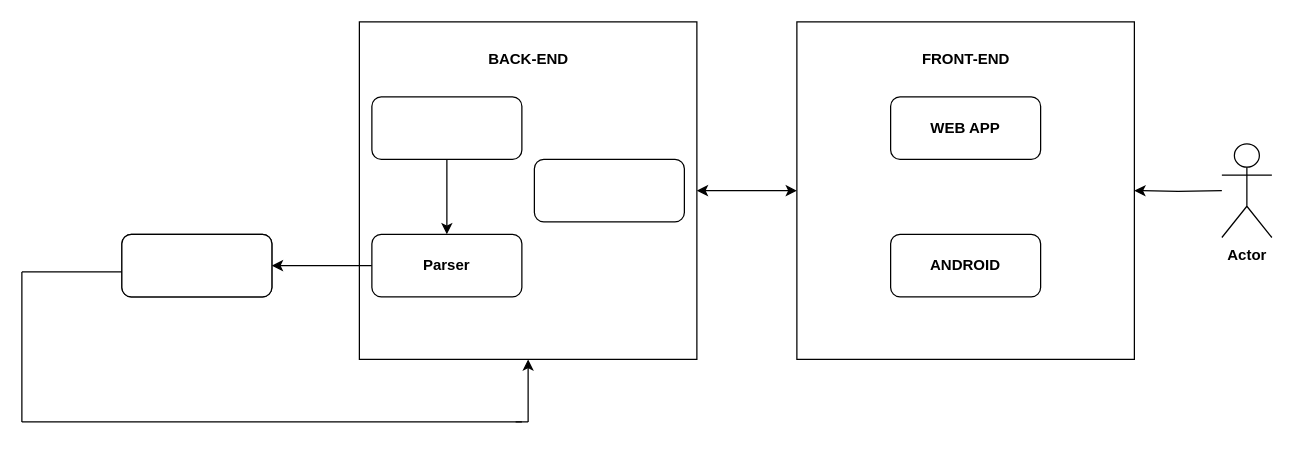
The diagram is 1294 pixels wide and 454 high, and some of its shapes have lost their labels. Each missing label, with the centre of its shape:
"OCR API" belongs at point (446, 127).
"REST API" belongs at point (608, 190).
"Wolphram|Apha API" belongs at point (196, 265).
